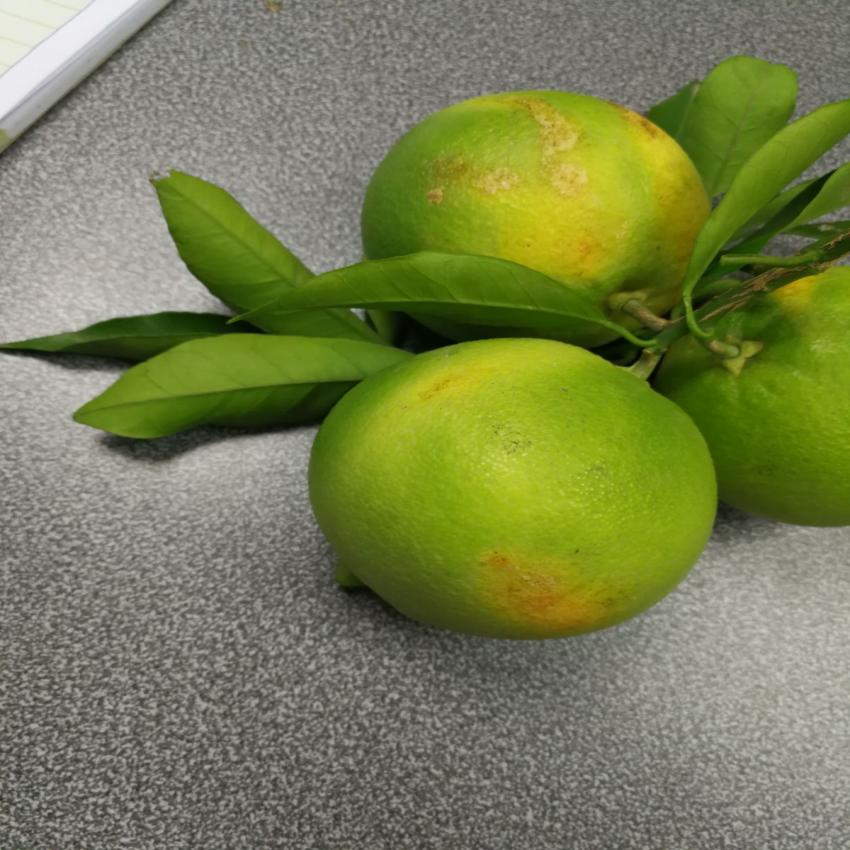Mal estado: (310, 336, 720, 658), (335, 89, 723, 341), (655, 260, 850, 532)
